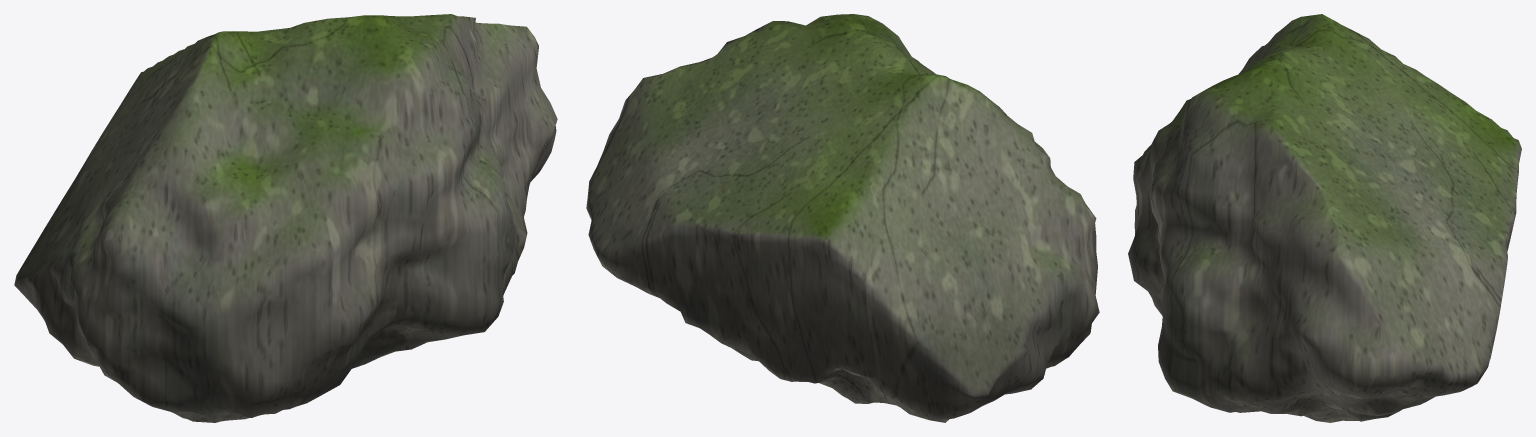
The model's file is rock-mossy-2.full.glb.
3 renders of one model, left to right at view 1: azimuth 30°, elevation 25°; view 2: azimuth 150°, elevation 25°; view 3: azimuth 270°, elevation 25°, orthographic. The views are drawn at different scales.
Parts seen in each view (by area): view 1: model; view 2: model; view 3: model.
Boxes of the visible parts, x1,y1,x2,y2 form: model: [14, 14, 557, 422]; model: [586, 14, 1099, 422]; model: [1128, 14, 1521, 422].
Size of the model in its own units: 1 by 0.697 by 0.6706.
Materials: 1 (1 with a texture image).
